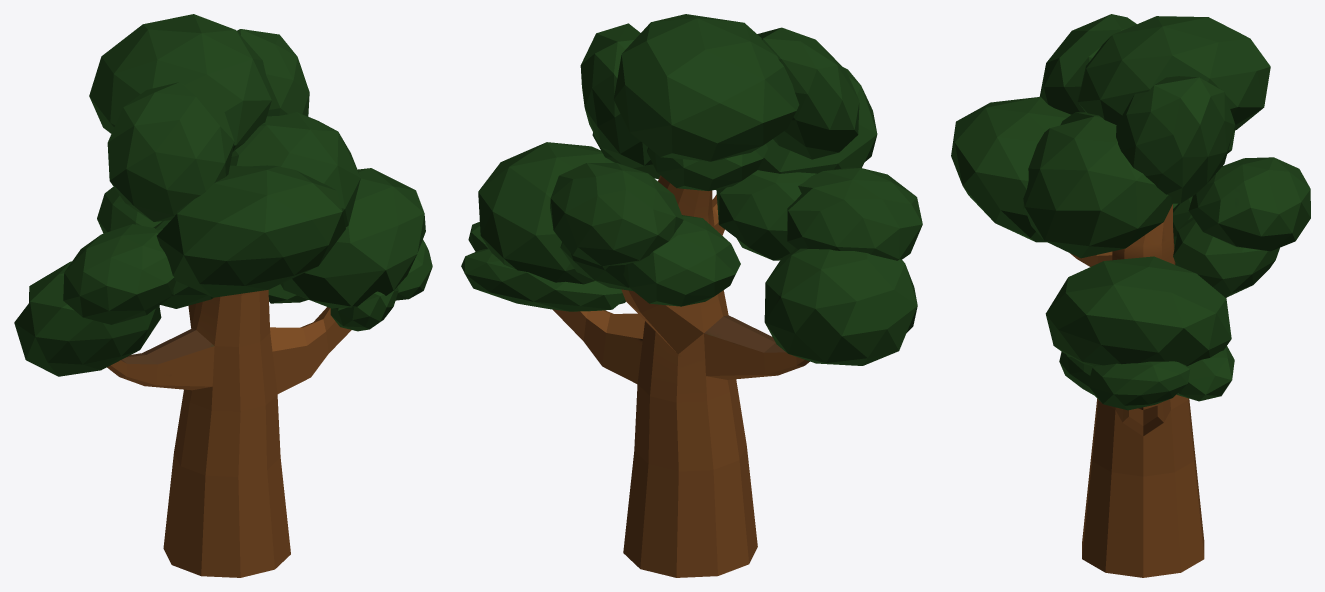
Rendered from tree1_big.fbx.
The picture shows the model from 3 angles, left to right: view 1: azimuth 30°, elevation 25°; view 2: azimuth 150°, elevation 25°; view 3: azimuth 270°, elevation 25°; orthographic projection. The views are drawn at different scales.
Parts seen in each view (by area): view 1: pCylinder38; view 2: pCylinder38; view 3: pCylinder38.
Part boxes in pixels (x1,y1,x2,y2): pCylinder38: [14, 14, 432, 577]; pCylinder38: [461, 14, 922, 577]; pCylinder38: [951, 14, 1310, 577].
Size of the model in its own units: 3495 by 4258 by 2689.
Materials: 1 (1 with a texture image).
